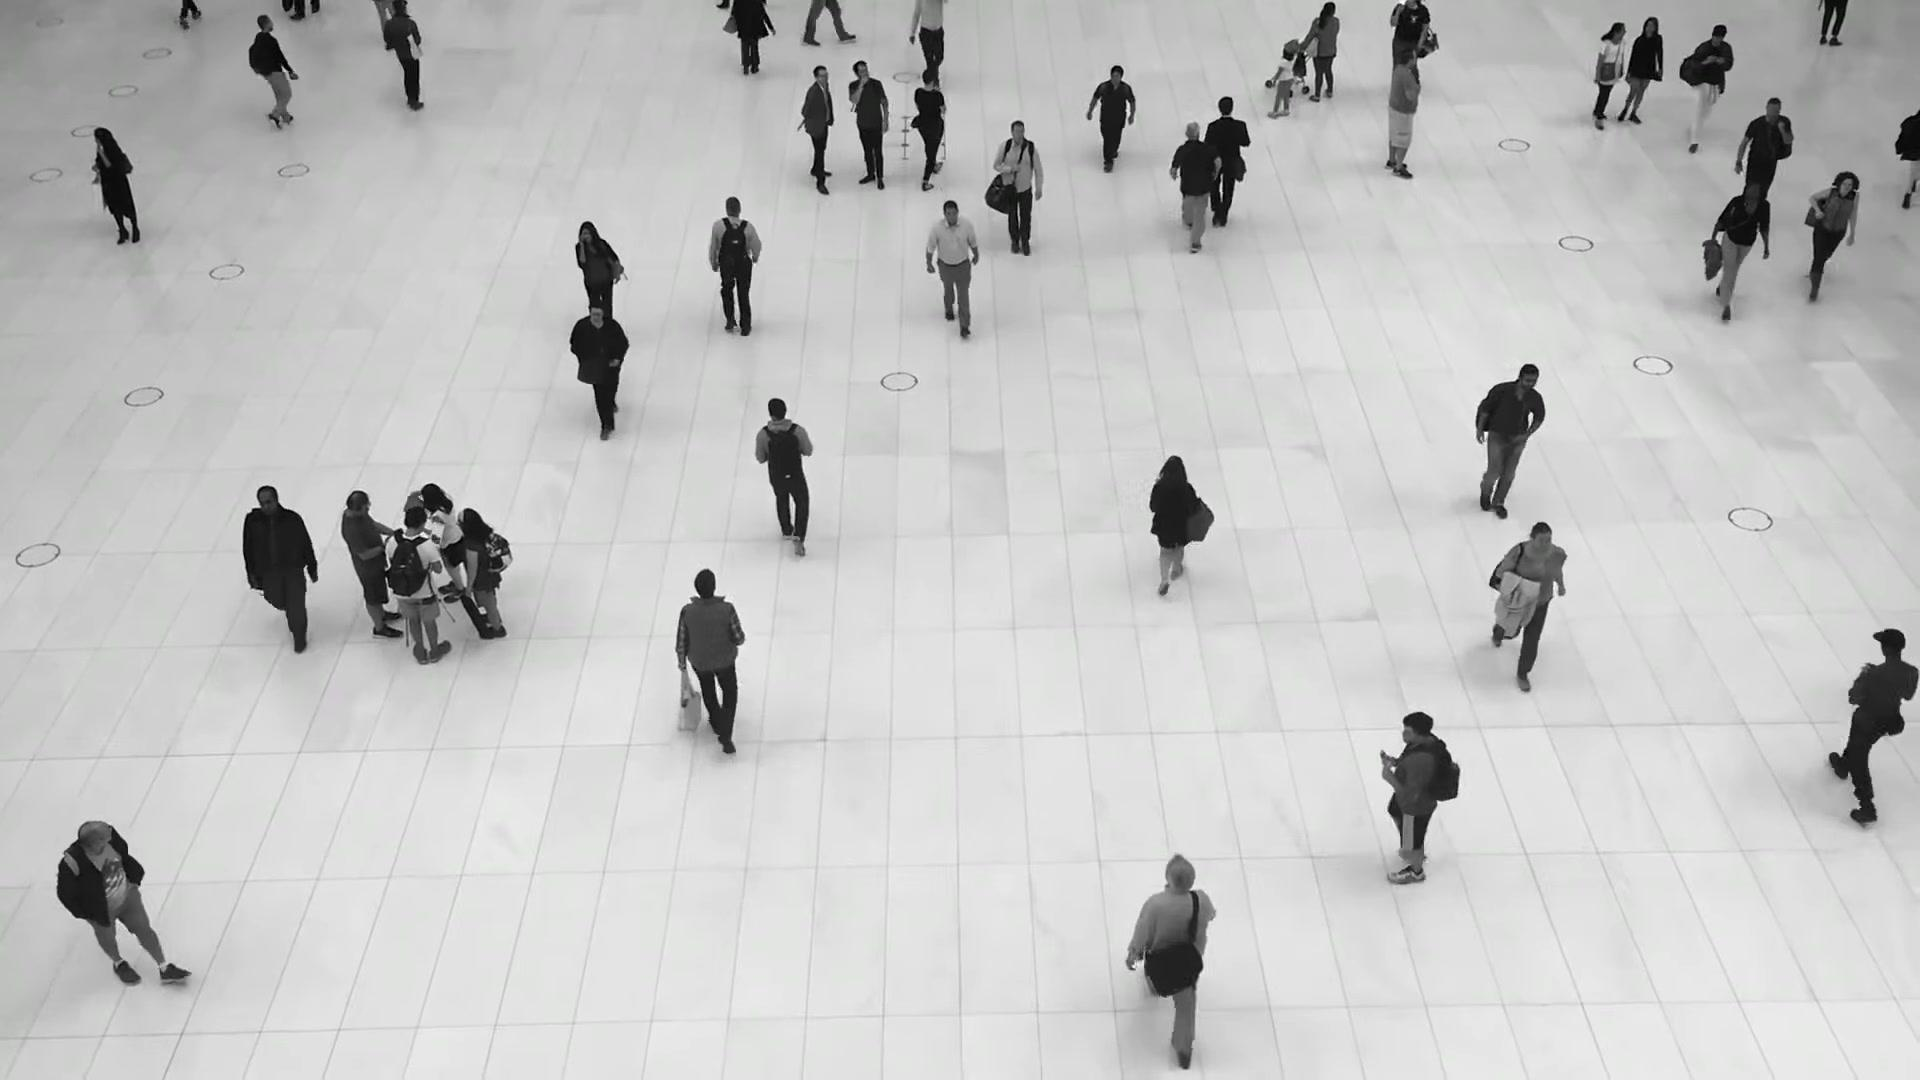person: (56, 818, 188, 988), (1125, 850, 1217, 1061), (1829, 623, 1913, 805), (1371, 711, 1458, 885), (674, 568, 746, 759), (1488, 522, 1568, 693), (241, 486, 317, 658), (1474, 365, 1546, 524), (384, 506, 451, 665), (752, 396, 814, 560), (341, 489, 403, 637), (1147, 454, 1211, 598), (568, 298, 630, 441), (1709, 179, 1771, 321), (926, 199, 983, 338), (707, 196, 762, 336), (1801, 170, 1860, 301), (456, 507, 510, 639), (1680, 22, 1734, 153), (993, 121, 1043, 257), (248, 14, 303, 132), (1203, 96, 1250, 230), (1169, 120, 1216, 251), (90, 126, 140, 245), (1735, 98, 1793, 198), (847, 60, 890, 191), (419, 483, 464, 603), (1087, 63, 1136, 171), (1618, 16, 1663, 130), (797, 64, 836, 194), (1384, 48, 1421, 179), (384, 0, 425, 111), (574, 221, 623, 313), (910, 68, 946, 190), (1302, 1, 1340, 102), (1592, 21, 1626, 130), (728, 0, 768, 80), (909, 0, 946, 80), (1267, 47, 1296, 118)
